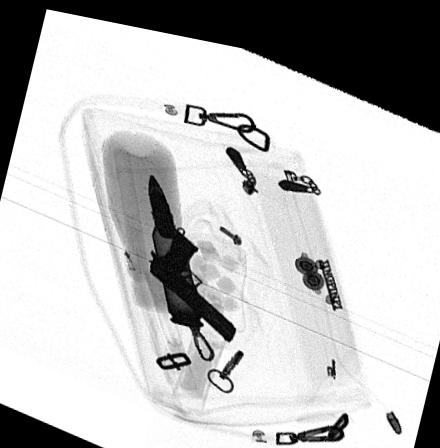Bullet: (147, 169, 203, 319)
Gun: (148, 223, 237, 332)
